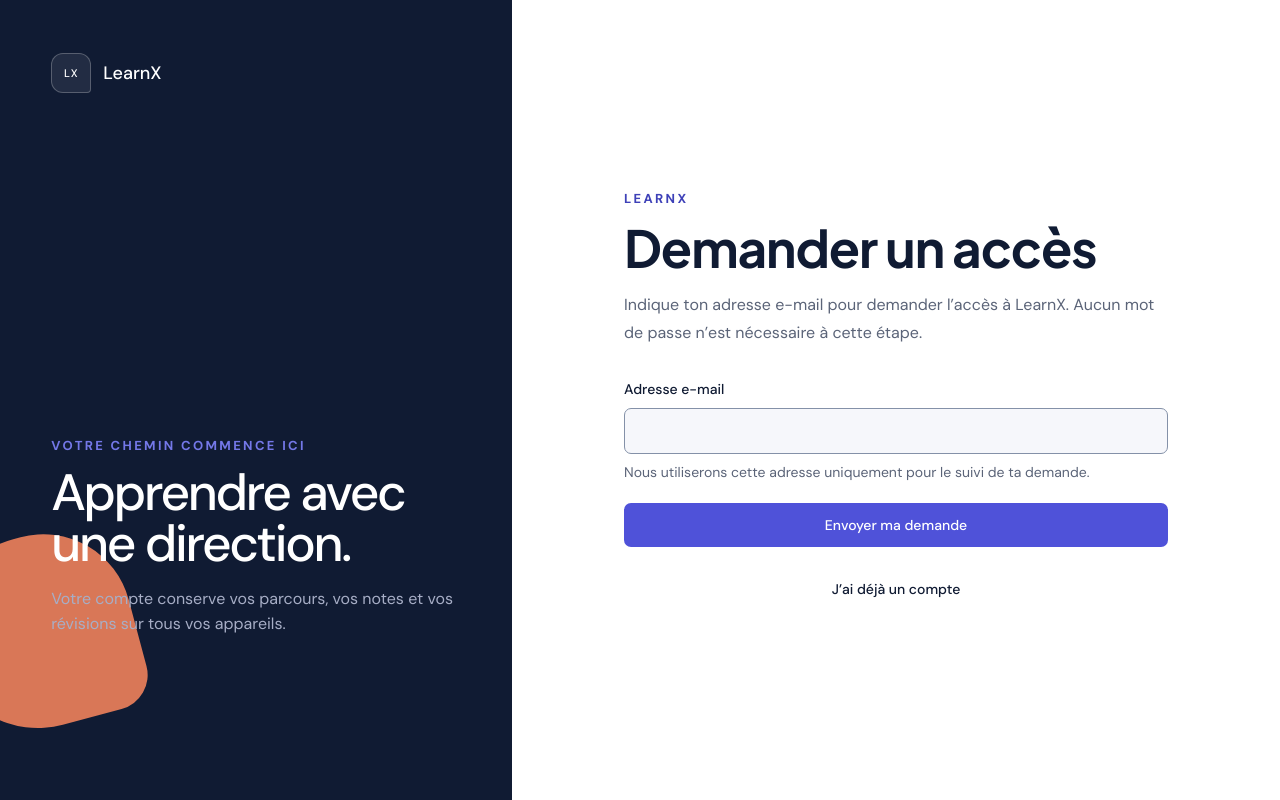
Test case: App › affiche une confirmation générique après la demande d’accès
The width and height of the screenshot is (1280, 800).
Type "learner@example.com" into the field labelled "Adresse e-mail" at (896, 431), box [624,408,1168,454]
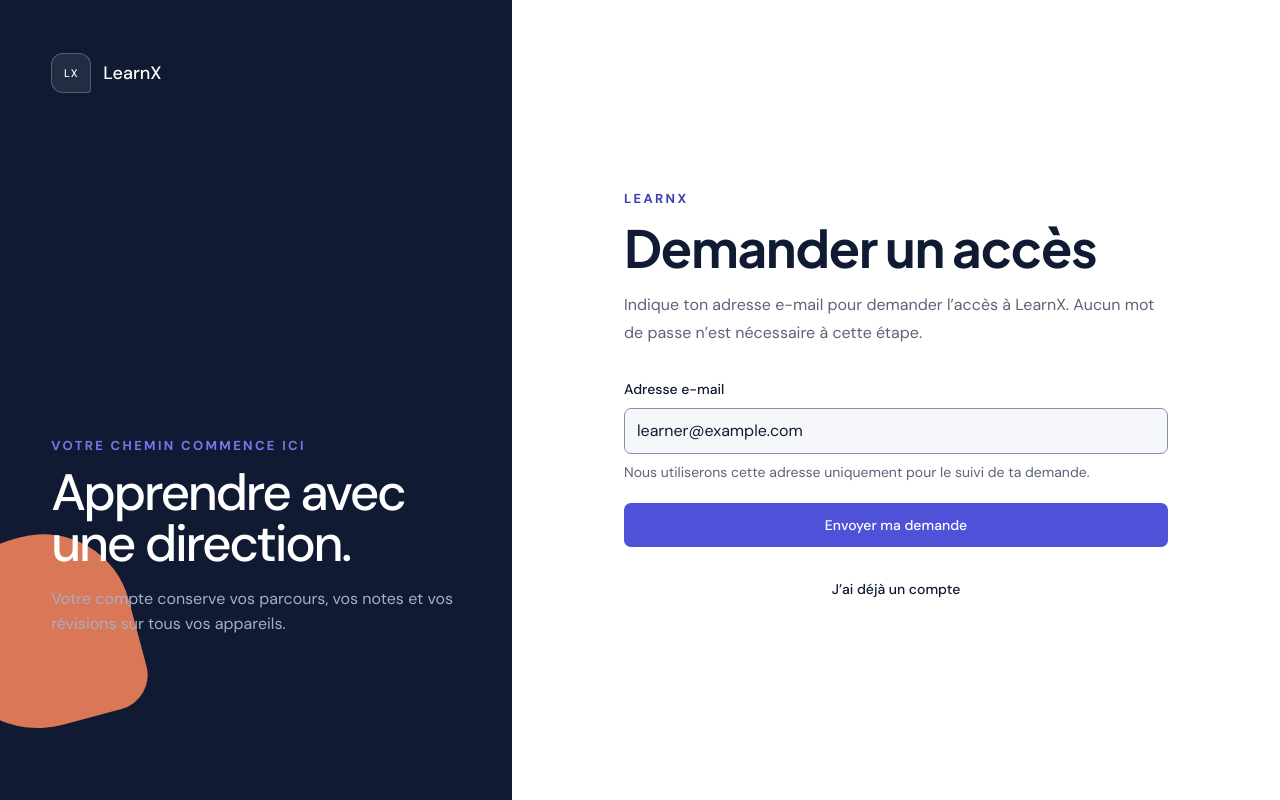
Click the button "Envoyer ma demande" at (896, 525), box [624,503,1168,547]
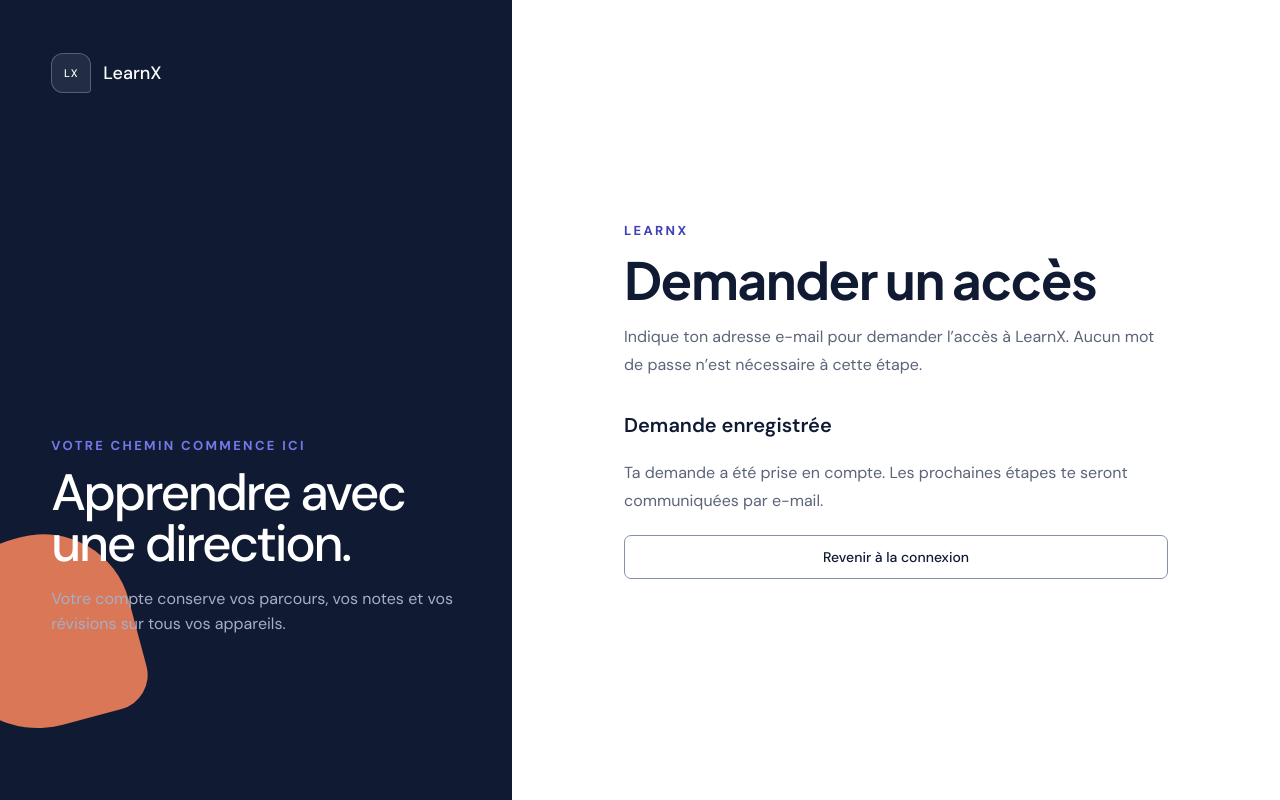
Expected: the heading "Demande enregistrée" is shown, [624,412,832,438]
